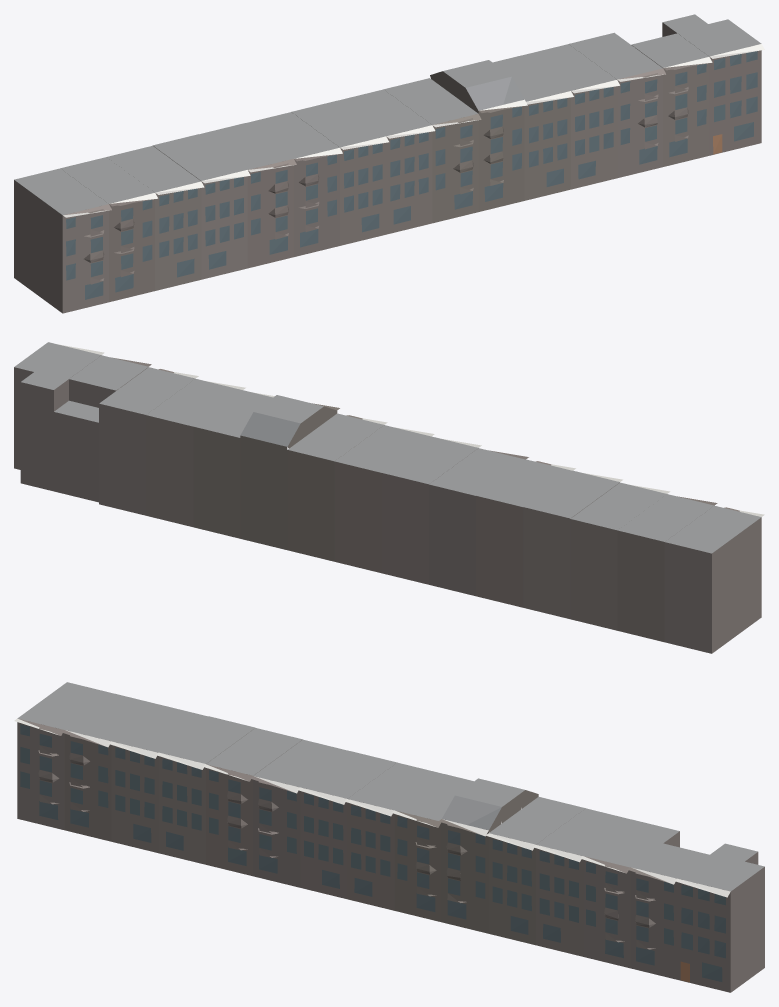
Rendered from chunk-face-hoendiep-2-60-r1.lod2.glb.
The picture shows the model from 3 angles, top to bottom: view 1: azimuth 30°, elevation 25°; view 2: azimuth 150°, elevation 25°; view 3: azimuth 330°, elevation 25°; orthographic projection. The views are drawn at different scales.
Visible parts, largest first — view 1: lod2; view 2: lod2; view 3: lod2.
Part boxes in pixels (<box>): lod2: <box>14,14,764,313</box>; lod2: <box>14,342,764,653</box>; lod2: <box>14,682,764,992</box>.
Bounding box in the file's own units: 92.29 × 14.49 × 11.9.
